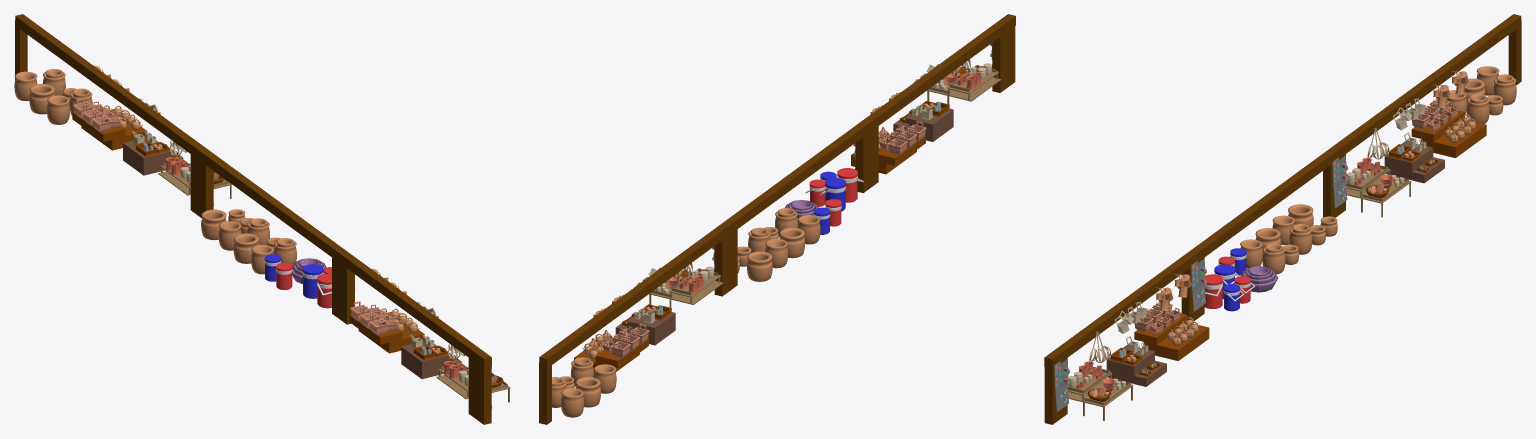
File: LeftMarket 1.fbx
The picture shows the model from 3 angles, left to right: view 1: azimuth 30°, elevation 25°; view 2: azimuth 150°, elevation 25°; view 3: azimuth 330°, elevation 25°; orthographic projection.
Parts seen in each view (by area): view 1: polySurface410; view 2: polySurface410; view 3: polySurface410.
Part boxes in pixels (<box>): polySurface410: <box>14,14,510,424</box>; polySurface410: <box>539,14,1015,424</box>; polySurface410: <box>1044,14,1521,424</box>.
Bounding box in the file's own units: 6.88 × 7.31 × 91.97.
